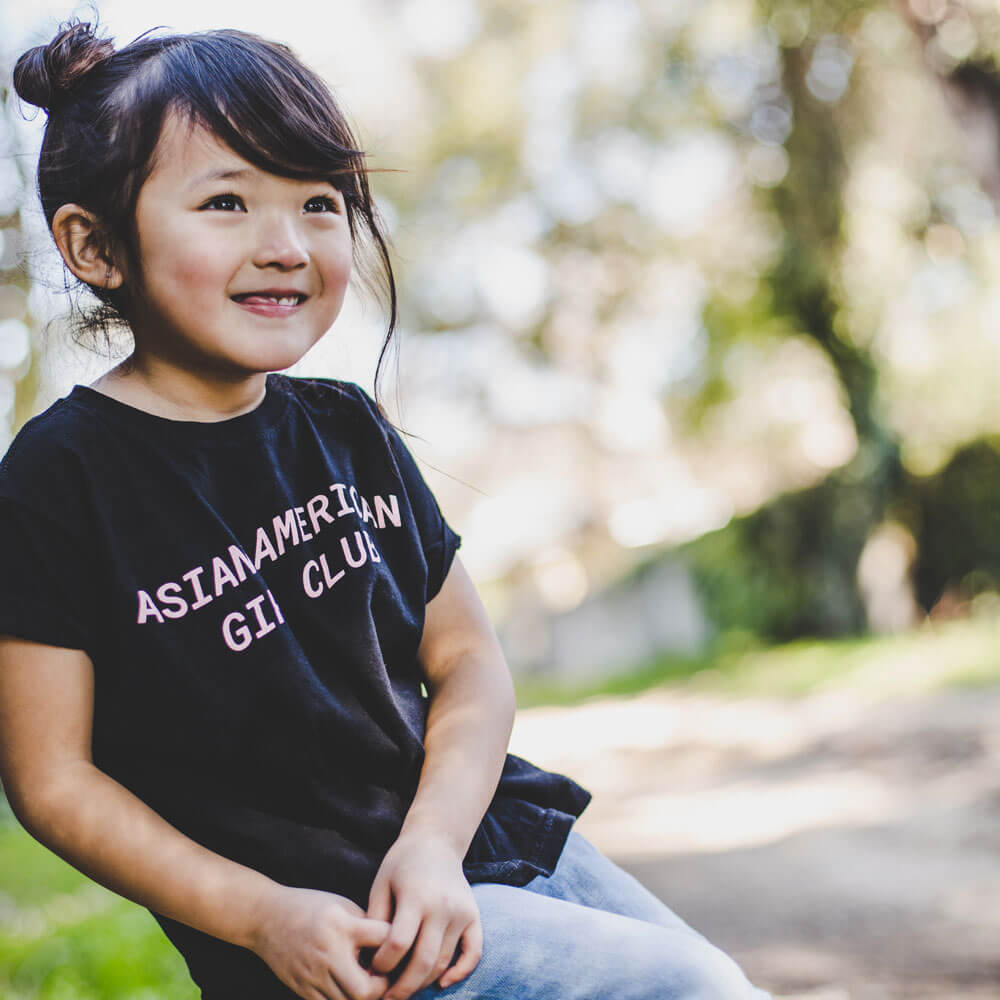person: (9, 15, 376, 391)
